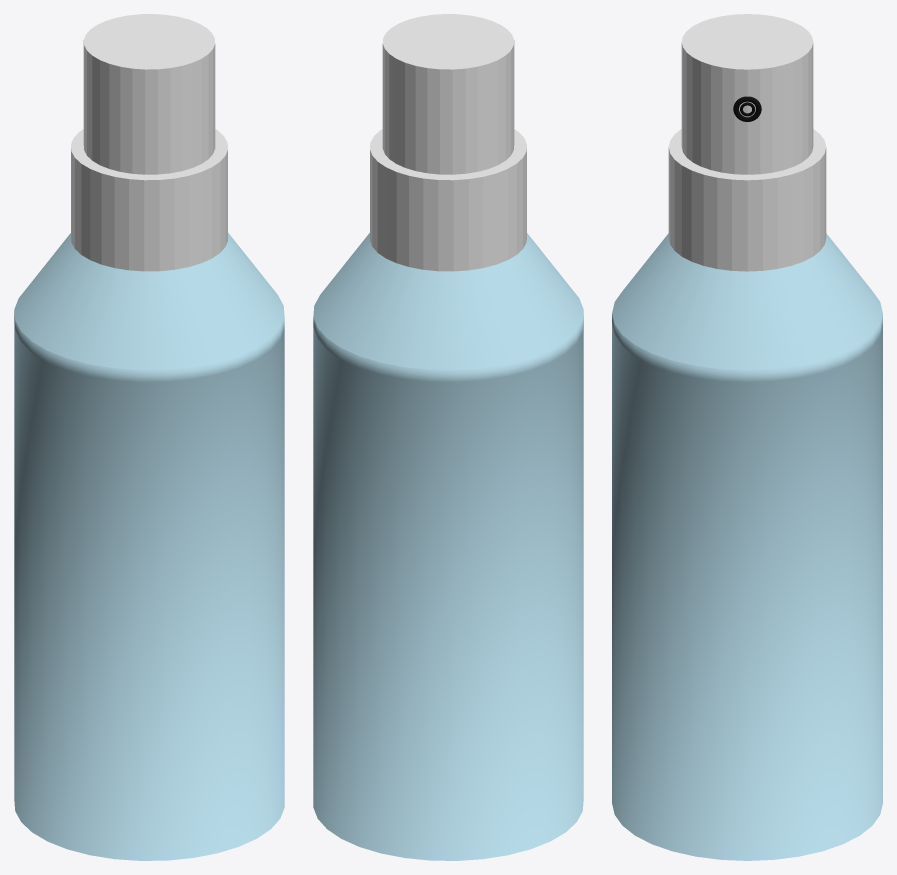
Rendered from Spray2.fbx.
The picture shows the model from 3 angles, left to right: view 1: azimuth 30°, elevation 25°; view 2: azimuth 150°, elevation 25°; view 3: azimuth 270°, elevation 25°; orthographic projection.
Visible parts, largest first — view 1: Cylinder.001; view 2: Cylinder.001; view 3: Cylinder.001.
Part boxes in pixels (x1,y1,x2,y2): Cylinder.001: (14,14,284,860); Cylinder.001: (313,14,583,860); Cylinder.001: (612,14,882,860).
Bounding box in the file's own units: 145 × 449 × 145.
